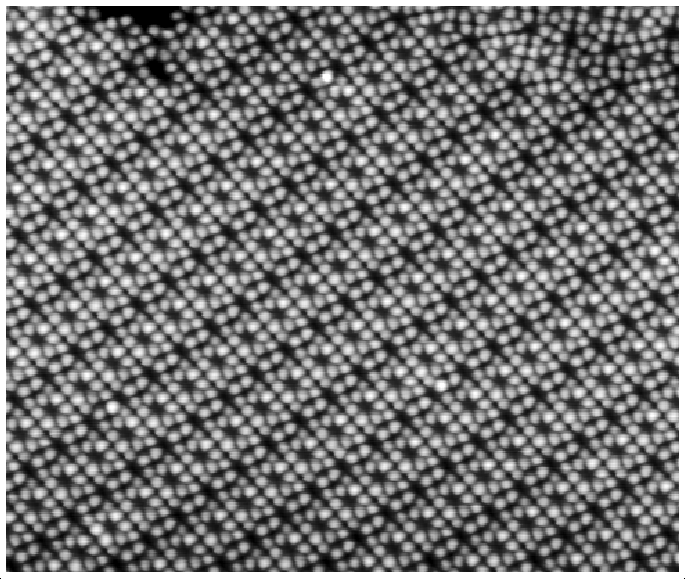L: (71, 38, 112, 76), (40, 63, 81, 101), (10, 88, 51, 126), (22, 157, 64, 194), (54, 133, 96, 170), (85, 109, 127, 146), (115, 85, 157, 122), (177, 34, 219, 71), (207, 11, 249, 48), (5, 251, 47, 288), (36, 227, 78, 264), (67, 203, 109, 240), (98, 180, 140, 217), (128, 155, 170, 192), (158, 131, 200, 168), (189, 107, 231, 144), (219, 83, 261, 120), (250, 59, 292, 96), (280, 36, 322, 73), (311, 12, 353, 49), (18, 321, 60, 358), (49, 298, 91, 335), (80, 274, 122, 311), (110, 250, 152, 287), (141, 226, 183, 263), (172, 202, 214, 239), (201, 178, 243, 215), (231, 154, 273, 191), (262, 130, 304, 167), (292, 107, 334, 144), (323, 83, 365, 120), (353, 59, 395, 96), (384, 35, 426, 72), (412, 11, 454, 48), (31, 391, 73, 428), (61, 368, 103, 405), (93, 345, 135, 382), (124, 320, 166, 357), (153, 297, 195, 334), (185, 273, 227, 310), (215, 249, 257, 286), (245, 225, 287, 262), (275, 201, 317, 238), (305, 177, 347, 214), (336, 153, 378, 190), (367, 129, 409, 166), (396, 105, 438, 142), (426, 82, 468, 119), (456, 57, 498, 94), (484, 32, 526, 69), (523, 43, 565, 80), (561, 54, 603, 91), (614, 6, 656, 43), (531, 79, 573, 116), (501, 103, 543, 140), (470, 127, 512, 164), (440, 152, 482, 189), (410, 175, 452, 212), (380, 200, 422, 237), (349, 223, 391, 260), (319, 247, 361, 284), (289, 271, 331, 308), (259, 294, 301, 331), (228, 319, 270, 356), (198, 343, 240, 380), (168, 366, 210, 403), (137, 390, 179, 427), (151, 461, 193, 498), (180, 437, 222, 474), (210, 414, 252, 451), (241, 389, 283, 426), (271, 366, 313, 403), (301, 342, 343, 379), (331, 318, 373, 355), (362, 294, 404, 331), (392, 270, 434, 307), (423, 246, 465, 283), (453, 223, 495, 260), (483, 199, 525, 236), (513, 175, 555, 212), (543, 150, 585, 187), (574, 127, 616, 164), (603, 103, 645, 140), (633, 78, 675, 115), (624, 41, 666, 78), (107, 414, 149, 451), (76, 439, 118, 476), (45, 461, 87, 498), (14, 486, 56, 523), (121, 485, 163, 522), (90, 509, 132, 546), (59, 533, 101, 570), (164, 533, 206, 570), (195, 508, 237, 545), (224, 485, 266, 522), (254, 460, 296, 497), (285, 436, 327, 473), (315, 412, 357, 449), (346, 388, 388, 425), (375, 363, 417, 400), (405, 341, 447, 378), (436, 317, 478, 354), (466, 292, 508, 329), (496, 269, 538, 306), (526, 245, 568, 282), (557, 220, 599, 257), (586, 197, 628, 234), (617, 173, 659, 210), (630, 244, 672, 281), (600, 267, 642, 304), (570, 290, 612, 327), (540, 315, 582, 352), (510, 339, 552, 376), (479, 363, 521, 400), (450, 387, 492, 424), (420, 410, 462, 447), (390, 434, 432, 471), (360, 458, 402, 495), (329, 483, 371, 520), (299, 507, 341, 544), (270, 531, 312, 568), (373, 531, 415, 568), (403, 506, 445, 543), (433, 482, 475, 519), (463, 458, 505, 495), (494, 433, 536, 470), (524, 410, 566, 447), (553, 386, 595, 423), (584, 362, 626, 399), (614, 337, 656, 374), (627, 408, 669, 445), (597, 432, 639, 469), (567, 456, 609, 493), (537, 480, 579, 517), (507, 504, 549, 541), (477, 528, 519, 565), (582, 527, 624, 564), (610, 504, 652, 541), (4, 415, 44, 453), (64, 6, 105, 41), (641, 480, 679, 517), (102, 15, 141, 50), (642, 314, 678, 351)
R: (31, 27, 75, 66), (487, 396, 527, 437), (518, 373, 558, 414), (547, 349, 587, 390), (577, 325, 617, 366), (337, 518, 376, 560), (15, 122, 57, 160), (107, 49, 149, 87), (5, 451, 47, 489), (607, 302, 647, 341), (638, 279, 678, 318), (622, 371, 662, 410), (591, 397, 631, 436), (562, 421, 601, 461), (531, 443, 570, 483), (502, 468, 541, 508), (471, 492, 510, 532), (441, 518, 480, 558), (546, 516, 585, 556), (575, 490, 614, 530), (605, 467, 644, 507), (635, 443, 674, 483), (48, 98, 89, 136), (78, 74, 119, 112), (138, 23, 179, 61), (121, 119, 162, 157), (37, 426, 78, 464), (68, 402, 109, 440), (99, 379, 140, 417), (591, 395, 629, 436), (5, 51, 44, 90), (29, 192, 69, 230), (61, 167, 101, 205), (92, 143, 132, 181), (153, 96, 193, 134), (182, 71, 222, 109), (213, 47, 253, 85), (244, 22, 284, 60), (11, 286, 51, 324), (42, 261, 82, 299), (73, 239, 113, 277), (104, 214, 144, 252), (135, 190, 175, 228), (165, 166, 205, 204), (195, 142, 235, 180), (226, 118, 266, 156), (257, 95, 297, 133), (287, 71, 327, 109), (317, 48, 357, 86), (347, 22, 387, 60), (23, 355, 63, 393), (57, 332, 97, 370), (86, 308, 126, 346), (117, 285, 157, 323), (147, 261, 187, 299), (178, 237, 218, 275), (208, 214, 248, 252), (238, 188, 278, 226), (269, 165, 309, 203), (299, 142, 339, 180), (329, 118, 369, 156), (360, 95, 400, 133), (391, 71, 431, 109), (420, 46, 460, 84), (450, 20, 490, 58), (131, 354, 171, 392), (160, 331, 200, 369), (192, 307, 232, 345), (222, 283, 262, 321), (252, 259, 292, 297), (282, 236, 322, 274), (313, 212, 353, 250), (343, 188, 383, 226), (373, 164, 413, 202), (403, 140, 443, 178), (434, 116, 474, 154), (464, 92, 504, 130), (494, 67, 534, 105), (510, 8, 550, 46), (550, 18, 590, 56), (590, 29, 630, 67), (599, 67, 639, 105), (568, 90, 608, 128), (538, 114, 578, 152), (507, 138, 547, 176), (477, 161, 517, 199), (448, 187, 488, 225), (416, 210, 456, 248), (387, 235, 427, 273), (357, 257, 397, 295), (326, 281, 366, 319), (296, 306, 336, 344), (265, 330, 305, 368), (235, 353, 275, 391), (205, 377, 245, 415), (174, 401, 214, 439), (144, 426, 184, 464), (114, 450, 154, 488), (83, 473, 123, 511), (127, 522, 167, 560), (158, 496, 198, 534), (188, 473, 228, 511), (218, 448, 258, 486), (249, 424, 289, 462), (279, 401, 319, 439), (309, 377, 349, 415), (339, 352, 379, 390), (369, 329, 409, 367), (400, 305, 440, 343), (430, 281, 470, 319), (460, 257, 500, 295), (491, 233, 531, 271), (519, 209, 559, 247), (551, 185, 591, 223), (580, 161, 620, 199), (611, 137, 651, 175), (625, 208, 665, 246), (594, 232, 634, 270), (564, 255, 604, 293), (534, 280, 574, 318), (504, 304, 544, 342), (473, 327, 513, 365), (443, 352, 483, 390), (412, 375, 452, 413), (383, 398, 423, 436), (354, 423, 394, 461), (323, 447, 363, 485), (293, 471, 333, 509), (263, 495, 303, 533), (232, 520, 272, 558), (367, 494, 405, 534), (398, 469, 436, 509), (428, 445, 466, 485), (459, 421, 497, 461), (52, 496, 92, 534), (21, 522, 61, 560), (641, 113, 679, 152), (4, 215, 39, 254)
